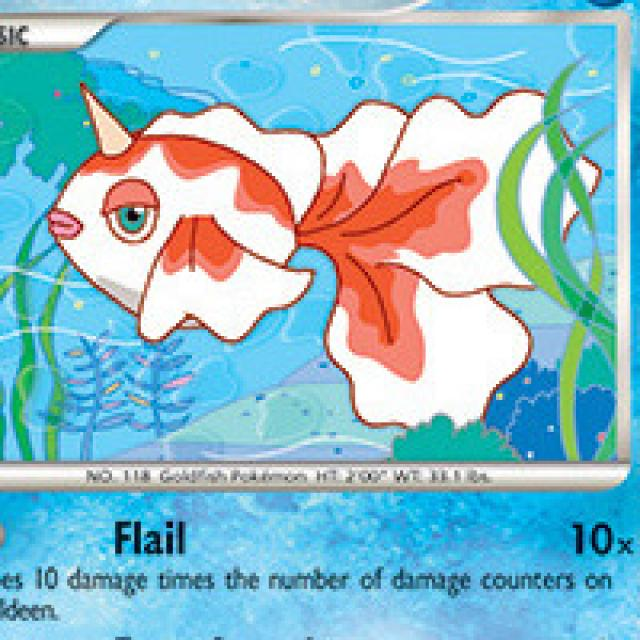Goldeen: (46, 90, 440, 345)
